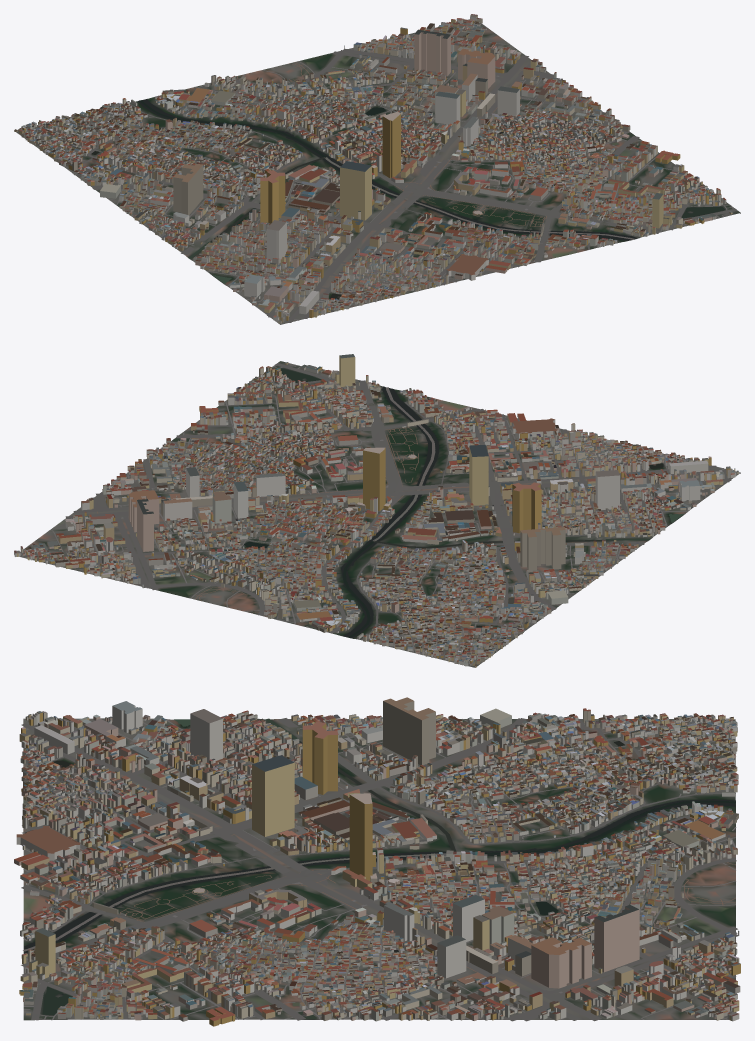
3 views of the same model, one above another, from view 1: azimuth 30°, elevation 25°; view 2: azimuth 150°, elevation 25°; view 3: azimuth 270°, elevation 25° (orthographic). The views are drawn at different scales.
Visible parts, largest first — view 1: buildings, ground, roads, water; view 2: buildings, ground, roads, water; view 3: buildings, ground, roads, water.
Part boxes in pixels (x1,y1,x2,y2): buildings: (14,14,732,323); ground: (14,19,740,324); roads: (21,21,737,322); water: (91,99,725,299); buildings: (14,354,738,667); ground: (19,361,740,667); roads: (20,363,731,662); water: (173,368,683,637); buildings: (14,697,740,1026); ground: (23,718,736,1020); roads: (21,718,738,1021); water: (23,718,735,1019).
Bounding box in the file's own units: 1443 × 173 × 1431.
